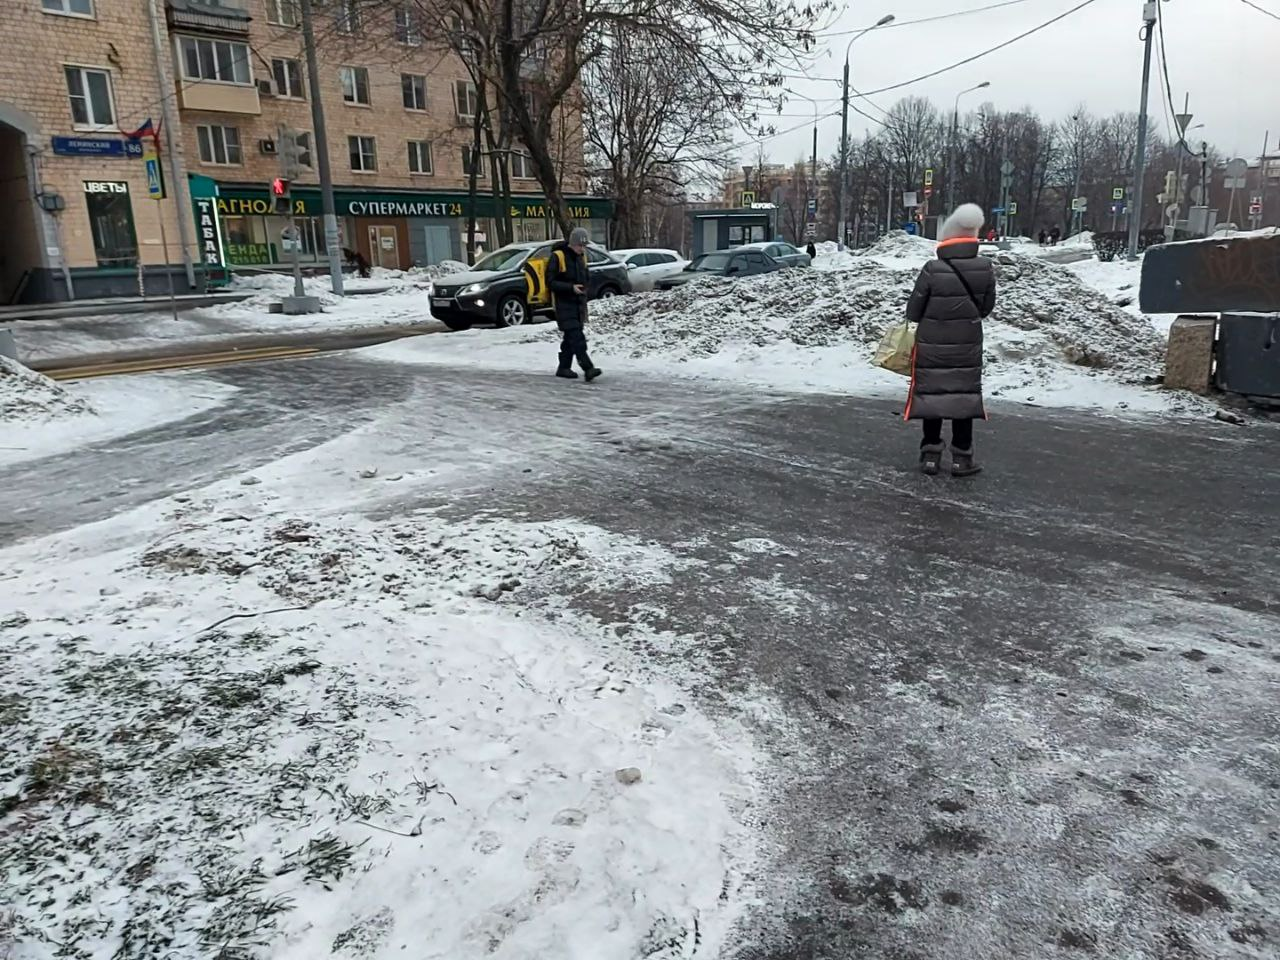sombie: (513, 224, 620, 390)
